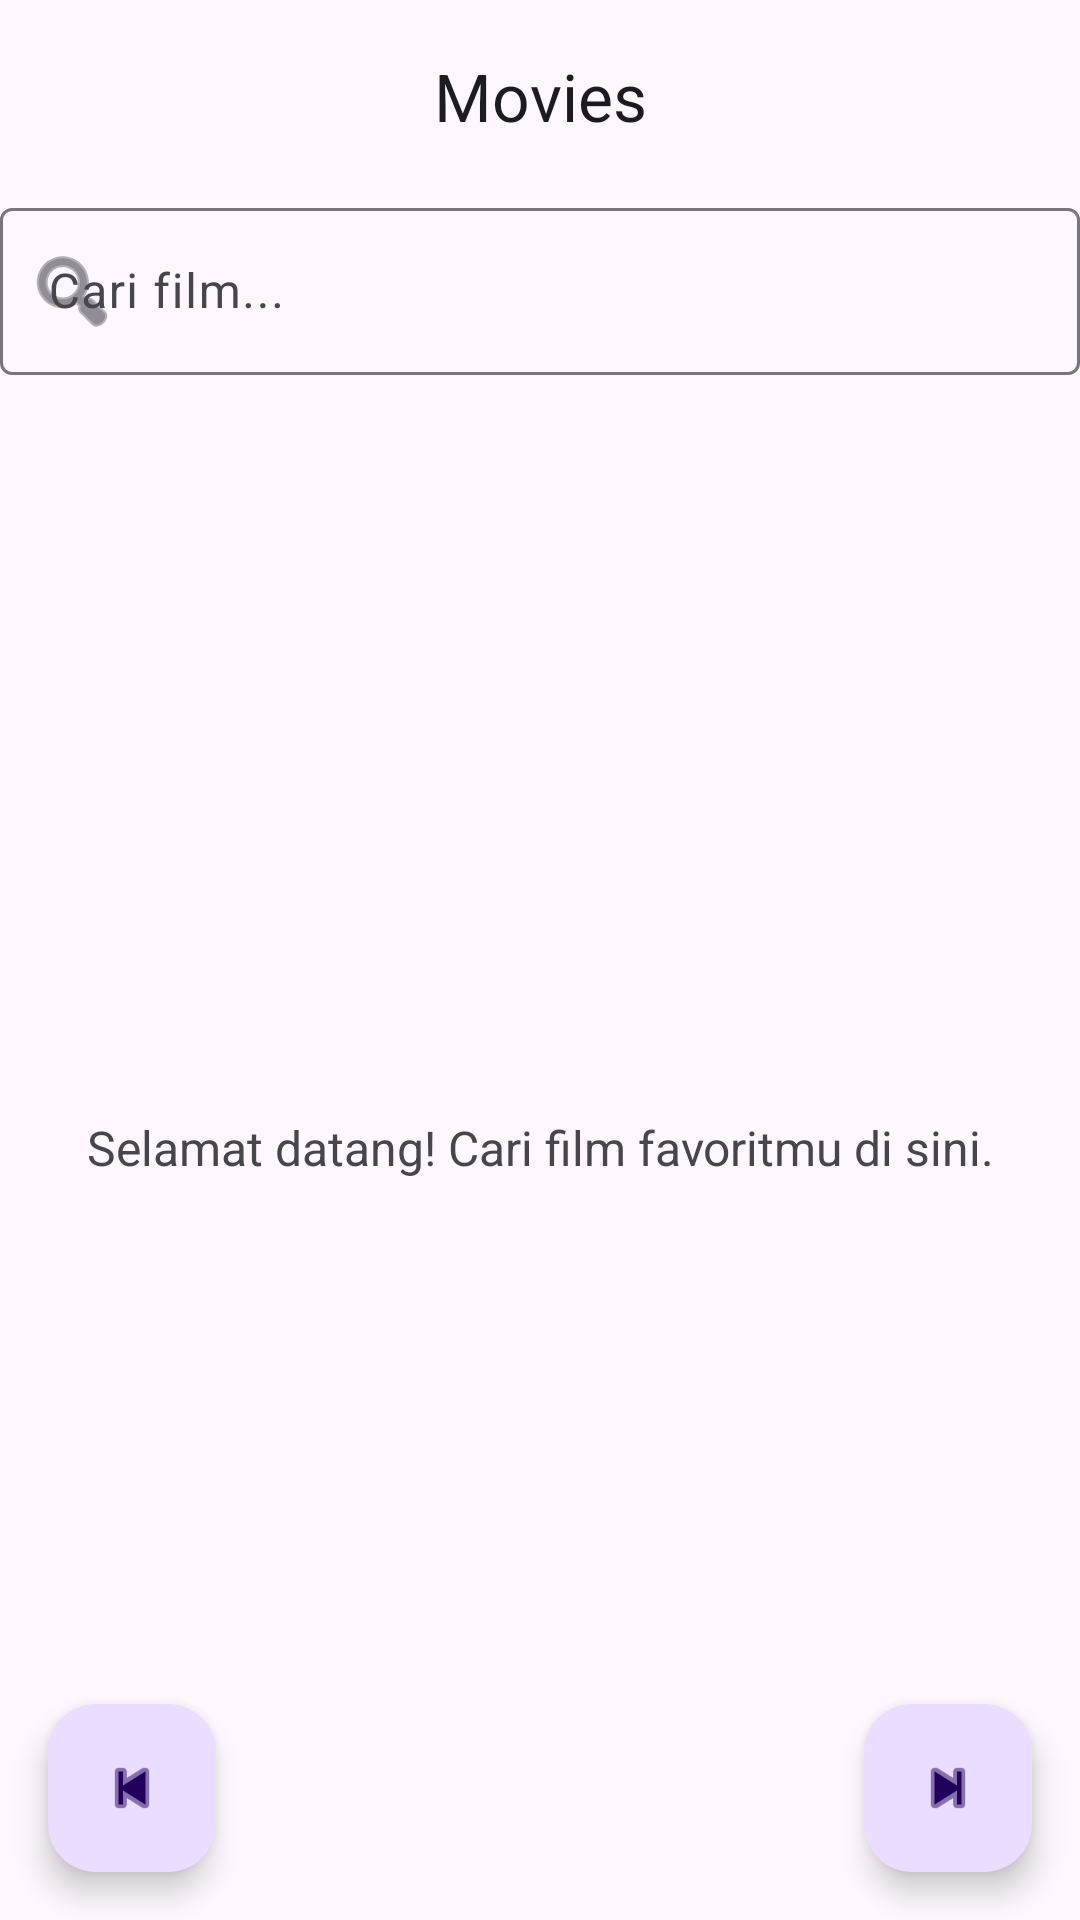

Where icons sit on this 1080 x 1920 app screen, as (x1, y1, x2, y2):
Back: (48, 1704, 216, 1872)
Next: (864, 1704, 1032, 1872)
